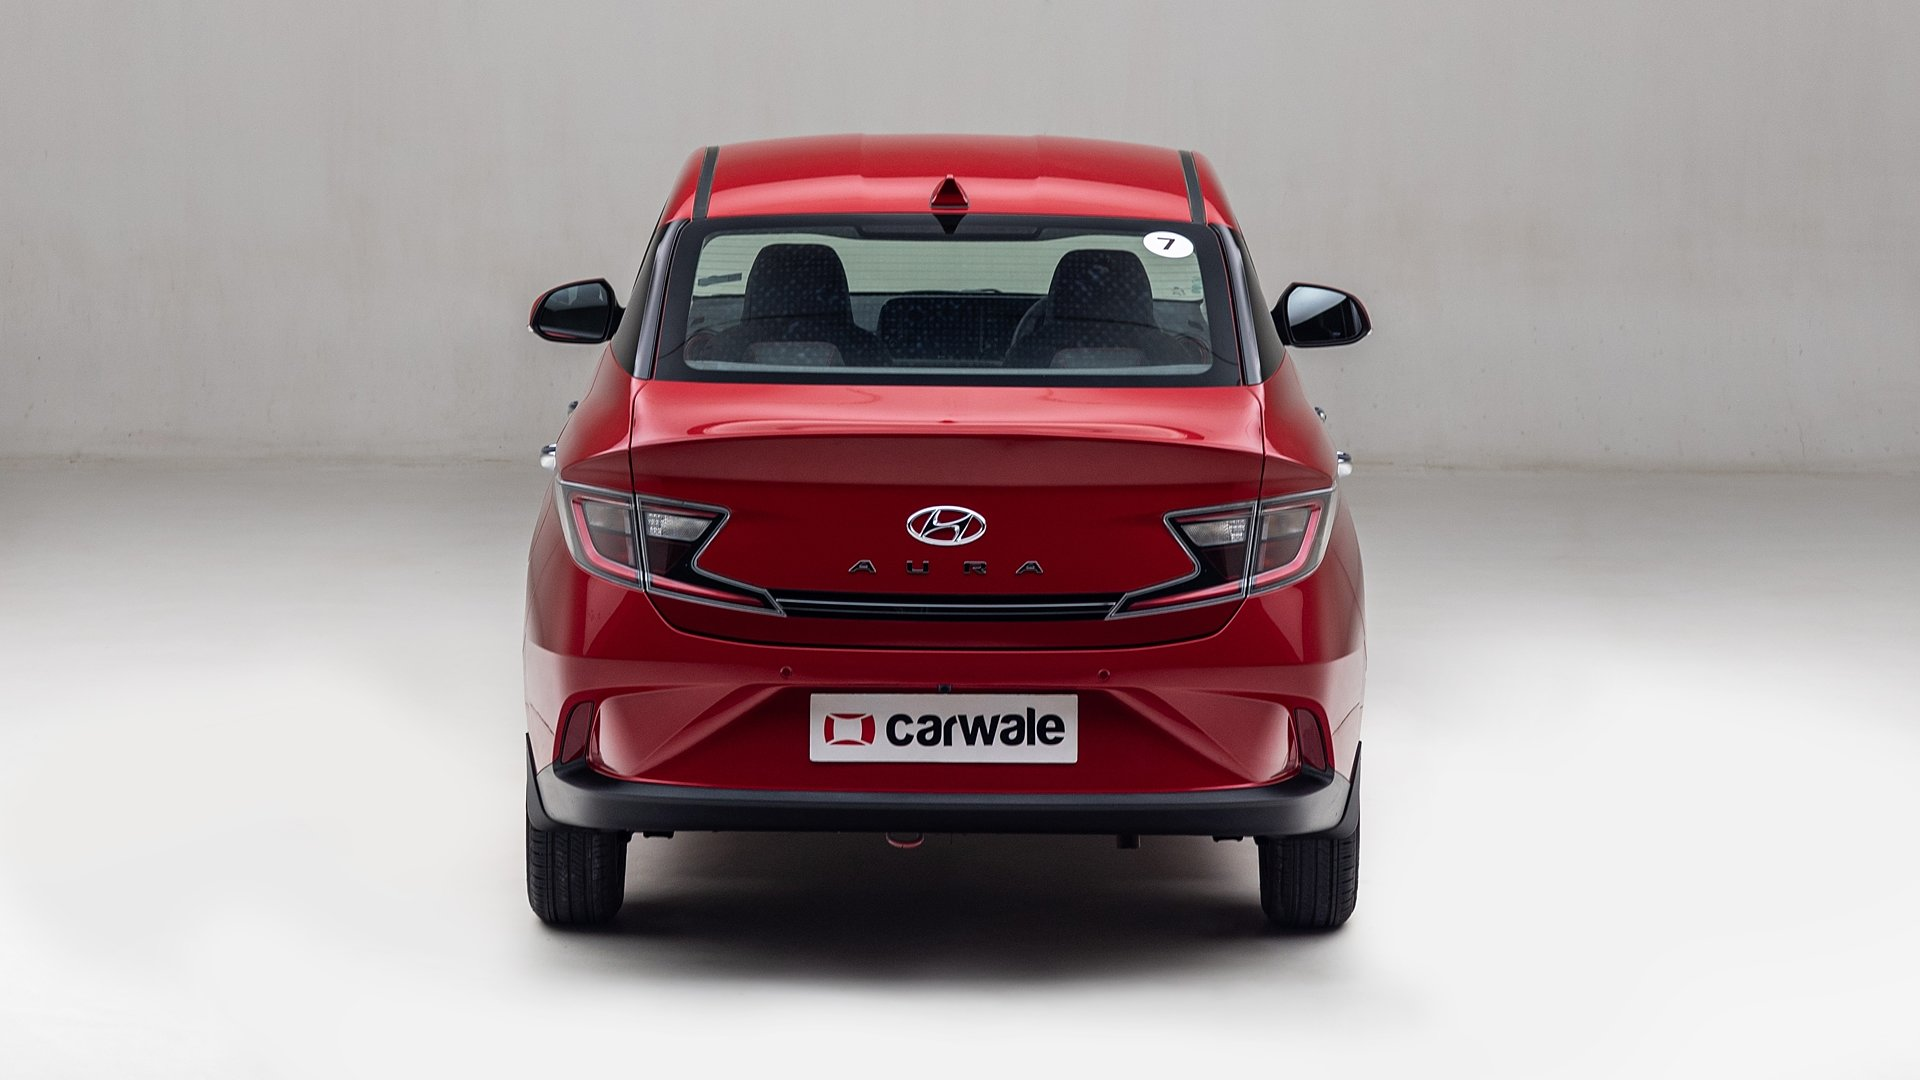car: (520, 136, 1394, 947)
